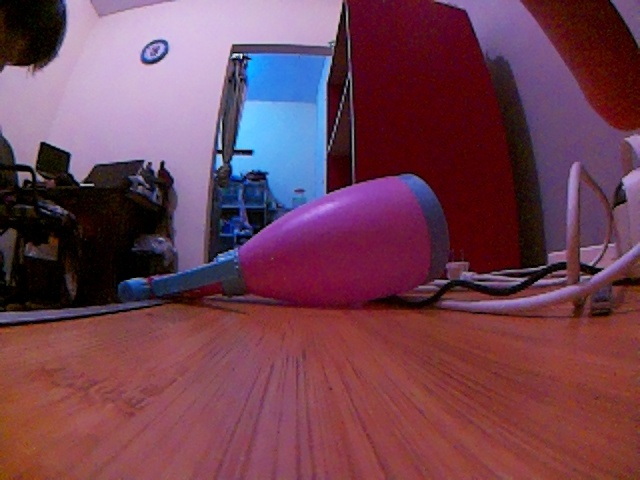korban: (128, 175, 449, 310)
